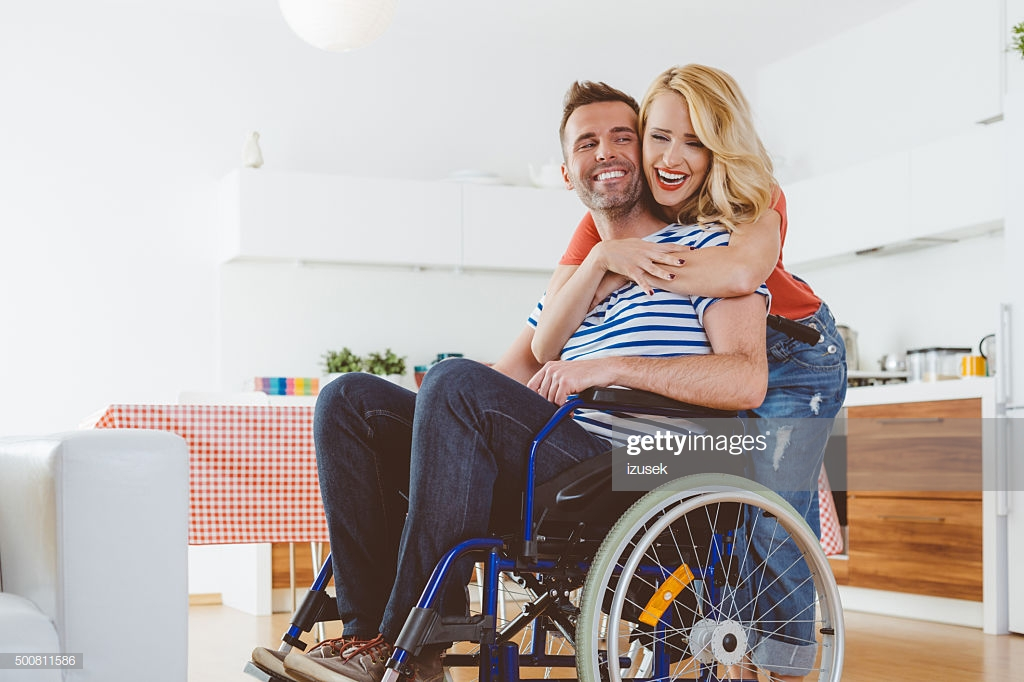person: (531, 18, 832, 411)
wheelchair: (389, 463, 863, 674)
